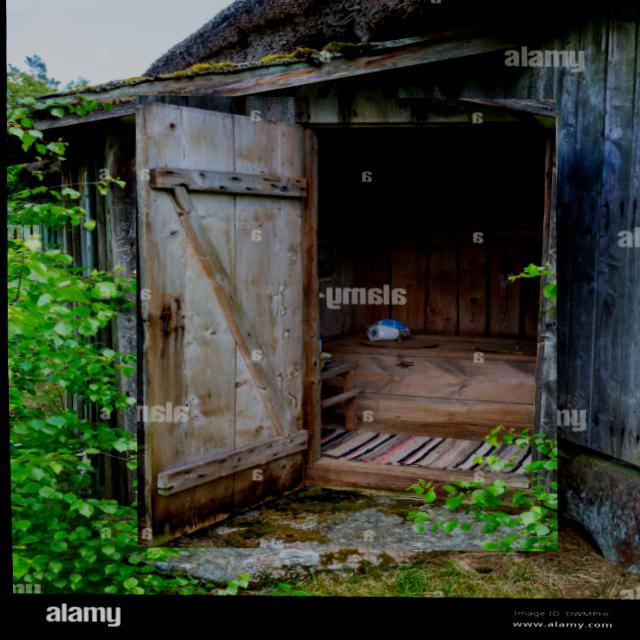open: (127, 93, 564, 555)
